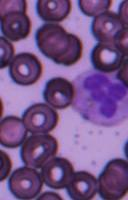N: (71, 70, 128, 127)
